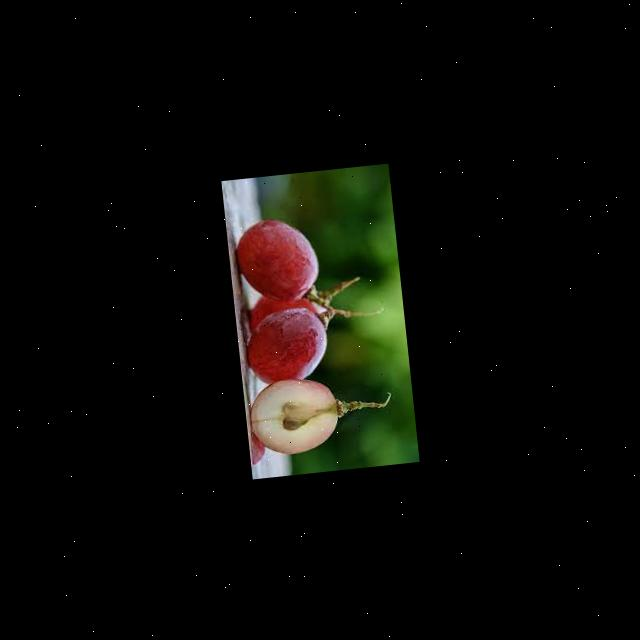grape: (232, 212, 322, 305), (243, 302, 331, 384)
